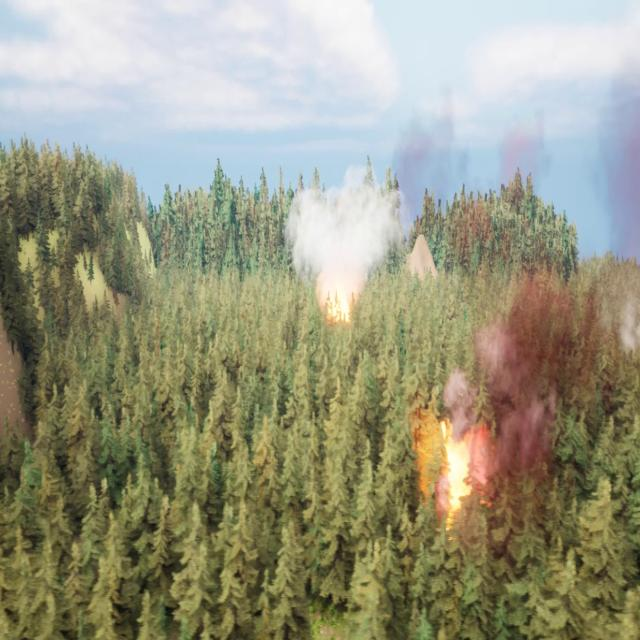fire: (434, 428, 479, 516), (320, 280, 362, 327)
smoke: (476, 70, 640, 532), (285, 176, 409, 298)
